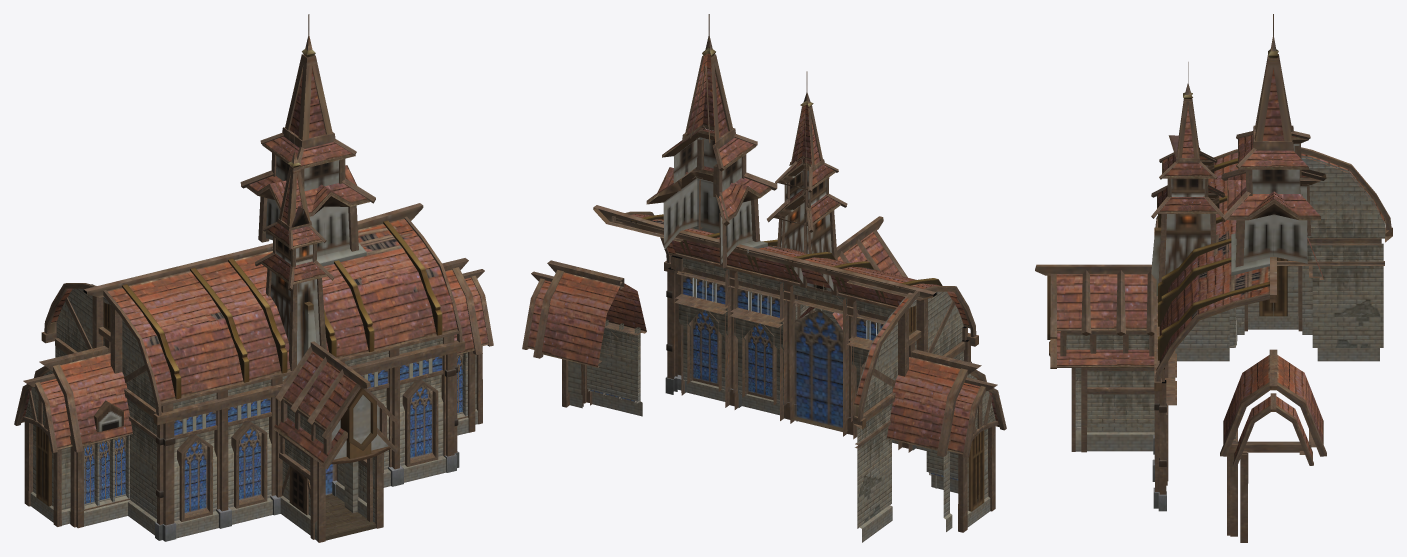
Rendered from S2_Build_DouLuo002.FBX.
3 renders of one model, left to right at view 1: azimuth 30°, elevation 25°; view 2: azimuth 150°, elevation 25°; view 3: azimuth 270°, elevation 25°, orthographic. The views are drawn at different scales.
Visible parts, largest first — view 1: S2_Build_DouLuo002; view 2: S2_Build_DouLuo002; view 3: S2_Build_DouLuo002.
Part boxes in pixels (left/top/right/bottom): S2_Build_DouLuo002: left=14, top=14, right=493, bottom=542; S2_Build_DouLuo002: left=522, top=14, right=1006, bottom=542; S2_Build_DouLuo002: left=1035, top=14, right=1392, bottom=542.
Size of the model in its own units: 1033 by 937 by 676.
